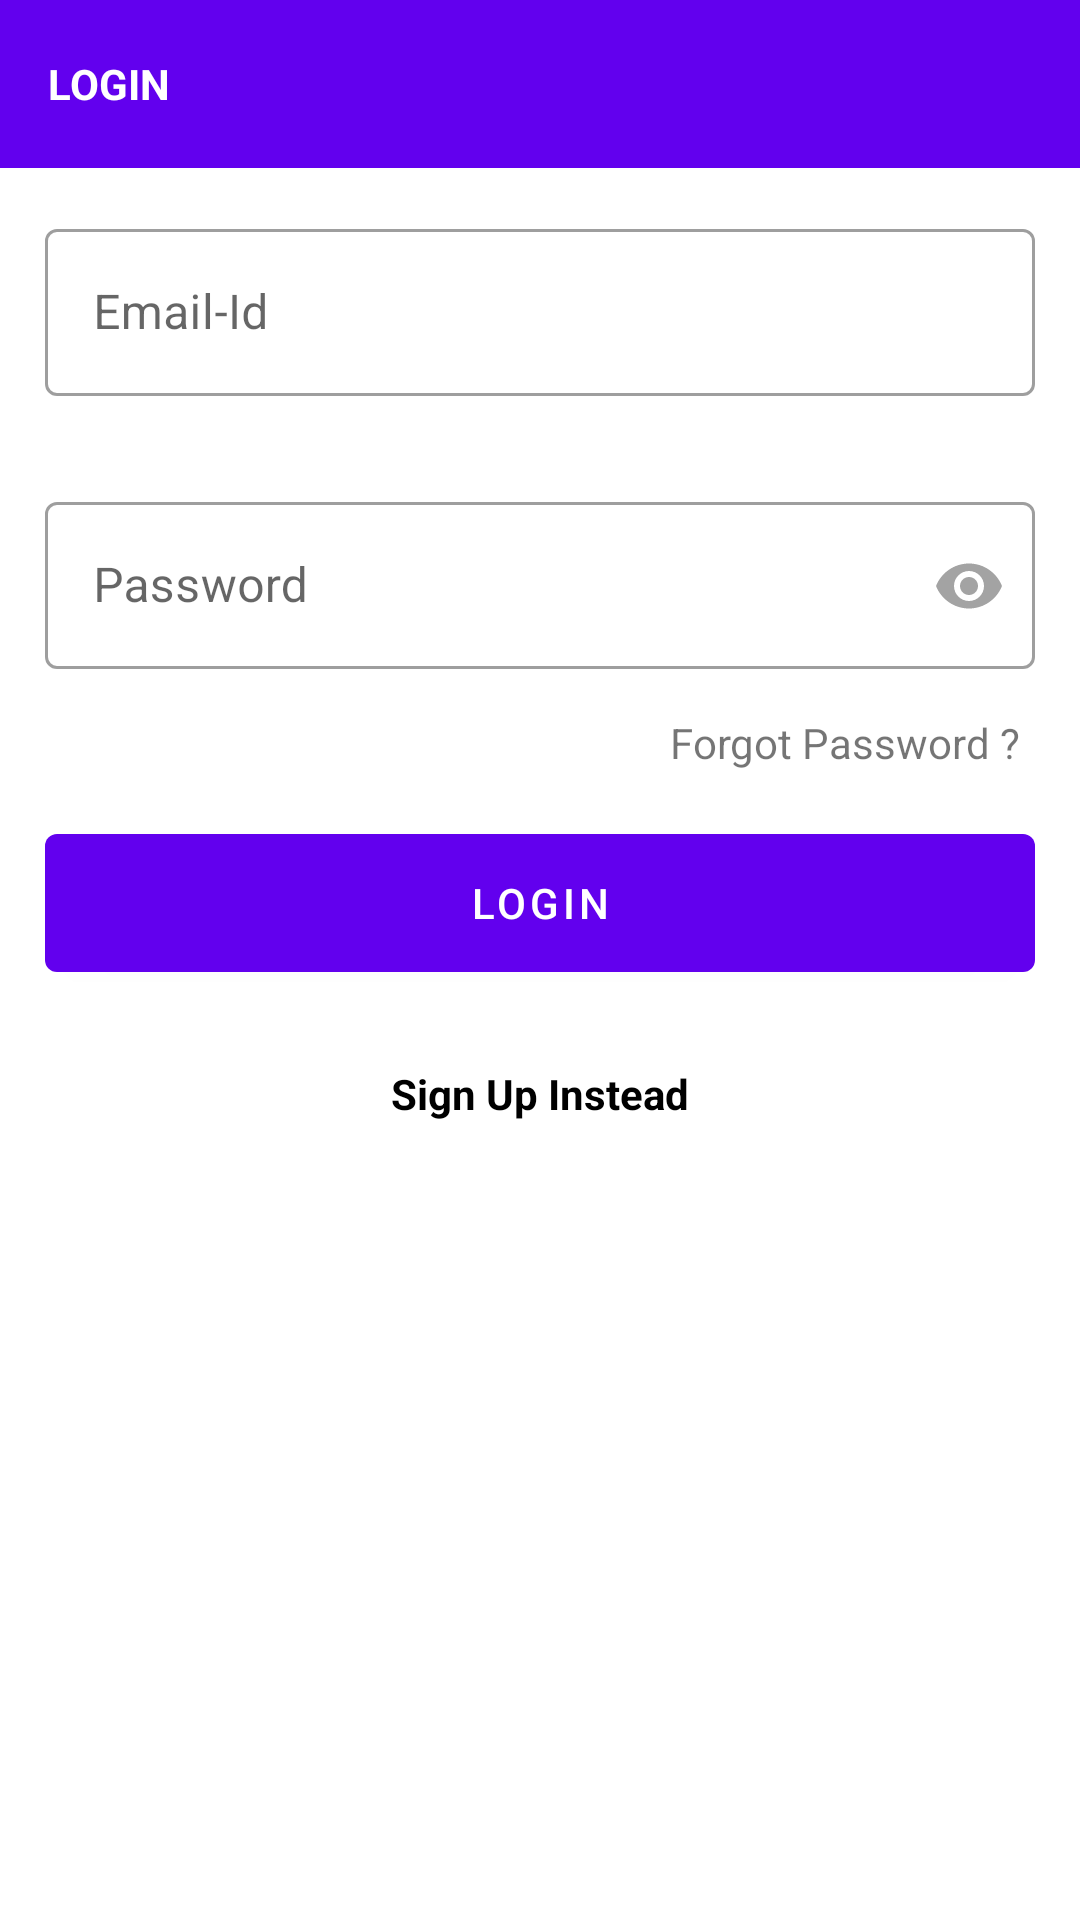

Screen size 1080×1920. Icon name, then its box in pixels as (x1, y1, x2, y2):
visibility: (936, 563, 1002, 609)
